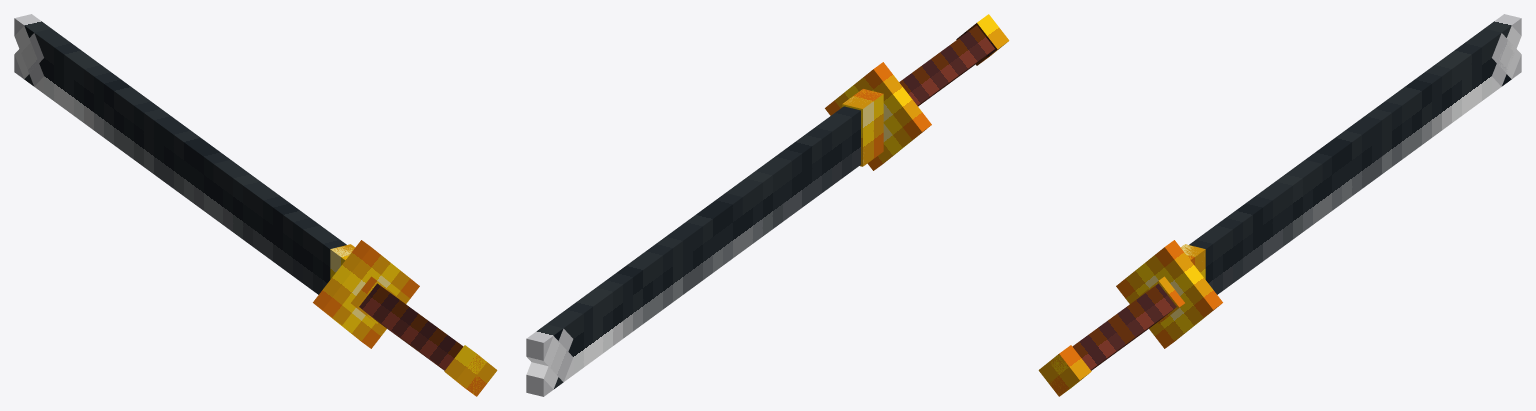
The model's file is katana.glb.
The picture shows the model from 3 angles, left to right: view 1: azimuth 30°, elevation 25°; view 2: azimuth 150°, elevation 25°; view 3: azimuth 330°, elevation 25°; orthographic projection.
Visible parts, largest first — view 1: main__Tool_R, off__Tool_L; view 2: main__Tool_R, off__Tool_L; view 3: main__Tool_R, off__Tool_L.
Part boxes in pixels (x1=…): main__Tool_R: x1=14, y1=14, x2=497, y2=396; off__Tool_L: x1=14, y1=33, x2=494, y2=395; main__Tool_R: x1=526, y1=14, x2=1009, y2=382; off__Tool_L: x1=526, y1=23, x2=997, y2=396; main__Tool_R: x1=1039, y1=14, x2=1521, y2=396; off__Tool_L: x1=1039, y1=33, x2=1521, y2=395.
Bounding box in the file's own units: 0.2652 × 0.2652 × 2.14.
1 material, 1 textured.
